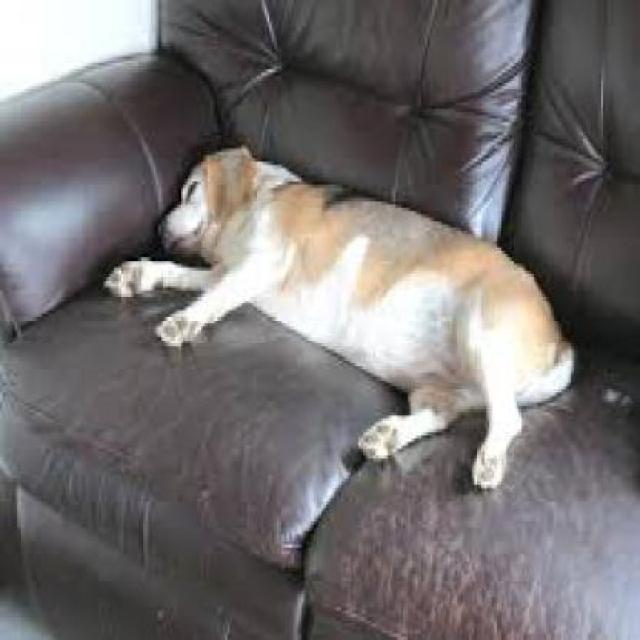Dog: (103, 140, 575, 497)
